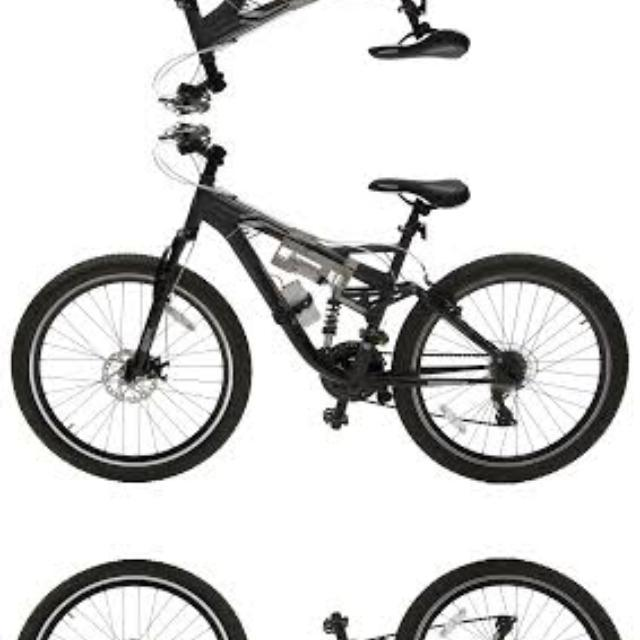obstacle: (7, 118, 640, 498), (7, 0, 640, 118), (7, 543, 640, 640)
